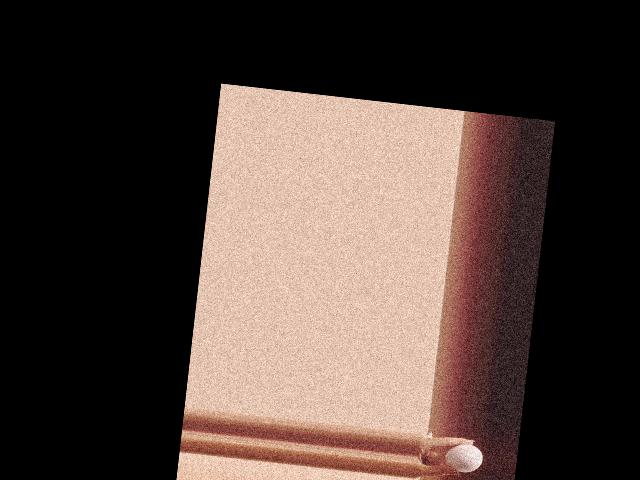egg: (442, 442, 483, 474)
